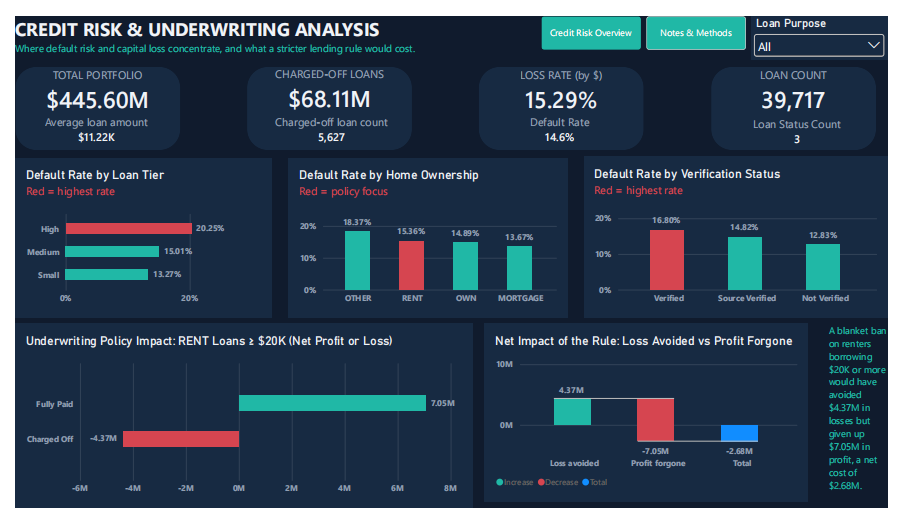

The dashboard page shown, as its layout file describes it:
{"tool":"powerbi","page":{"name":"Page 1","canvas":[1280,720],"ordinal":0},"visuals":[{"type":"cardVisual","fields":{"Data":["Sum(loan-data.loan_amnt)"]},"box":[9.6,79.6,211.3,97.4],"z":0},{"type":"cardVisual","fields":{"Data":["Sum(loan-data.loan_amnt)"]},"box":[359.5,79.5,212.8,97.8],"z":1000},{"type":"cardVisual","fields":{"Data":["loan-data.Macro Loss Rate"]},"box":[710.8,79.6,211.3,97.4],"z":2000},{"type":"cardVisual","fields":{"Data":["CountNonNull(loan-data.id)"]},"box":[1060.7,79.6,203.1,97.4],"z":3000},{"type":"clusteredBarChart","title":"Default Rate by Loan Tier","fields":{"Category":["loan-data.loan_tier"],"Y":["loan-data.Default Rate"]},"box":[9.6,188,644.9,253.9],"z":4000},{"type":"clusteredColumnChart","title":"Default Rate by Home Ownership","fields":{"Category":["loan-data.home_ownership"],"Y":["loan-data.Default Rate"]},"box":[699.8,188,564,253.9],"z":5000},{"type":"clusteredColumnChart","title":"Default Rate by Verification Status","fields":{"Category":["loan-data.verification_status"],"Y":["loan-data.Default Rate"]},"box":[9.6,451.5,644.9,253.9],"z":6000},{"type":"pivotTable","title":"Underwriting Policy Impact: RENT Loans ≥ $20K","fields":{"Rows":["loan-data.loan_status"],"Values":["CountNonNull(loan-data.id)","Sum(loan-data.loan_amnt)"]},"box":[699.8,452.8,564,253.9],"z":7000},{"type":"textbox","box":[0,0,1280.3,70],"z":8000},{"type":"slicer","fields":{"Values":["loan-data.purpose"]},"box":[1060.7,0,219.6,70],"z":9000}]}

Visuals, with their boxes on the page's 1280x720 design canvas (x1, y1, x2, y2). These are canvas units, not pixel positions in the 898x522 screenshot, which may show the page scaled, cropped or inside an application window:
cardVisual - Sum(loan-data.loan_amnt): 10:80:221:177
cardVisual - Sum(loan-data.loan_amnt): 360:80:572:177
cardVisual - loan-data.Macro Loss Rate: 711:80:922:177
cardVisual - CountNonNull(loan-data.id): 1061:80:1264:177
"Default Rate by Loan Tier" clusteredBarChart: 10:188:654:442
"Default Rate by Home Ownership" clusteredColumnChart: 700:188:1264:442
"Default Rate by Verification Status" clusteredColumnChart: 10:452:654:705
"Underwriting Policy Impact: RENT Loans ≥ $20K" pivotTable: 700:453:1264:707
textbox: 0:0:1280:70
slicer - loan-data.purpose: 1061:0:1280:70
